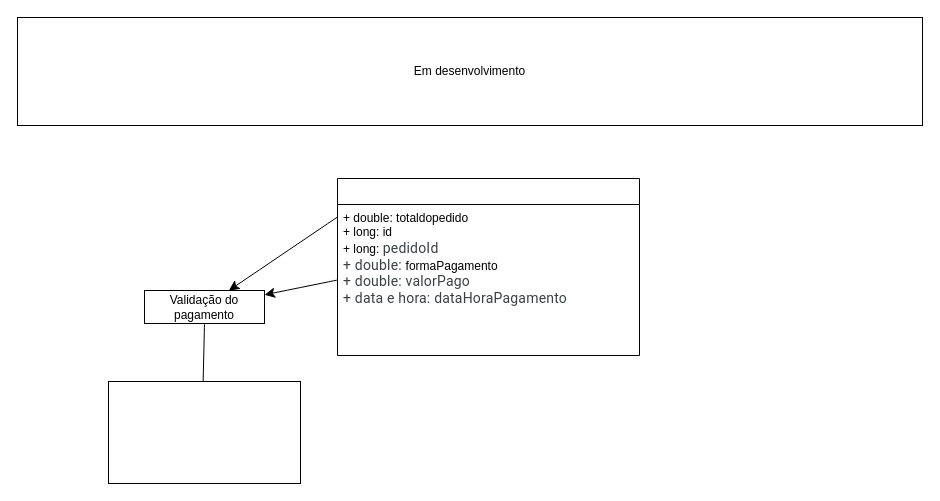
This 940x501 diagram has some shape labels left out. Here are the shapes that lost their labels. From the top down, the box of each, then its label:
(336, 178, 640, 356): Classe Pagamentos
(108, 380, 300, 484): enquanto totaldopedido <= que valor pago enviar pizza
